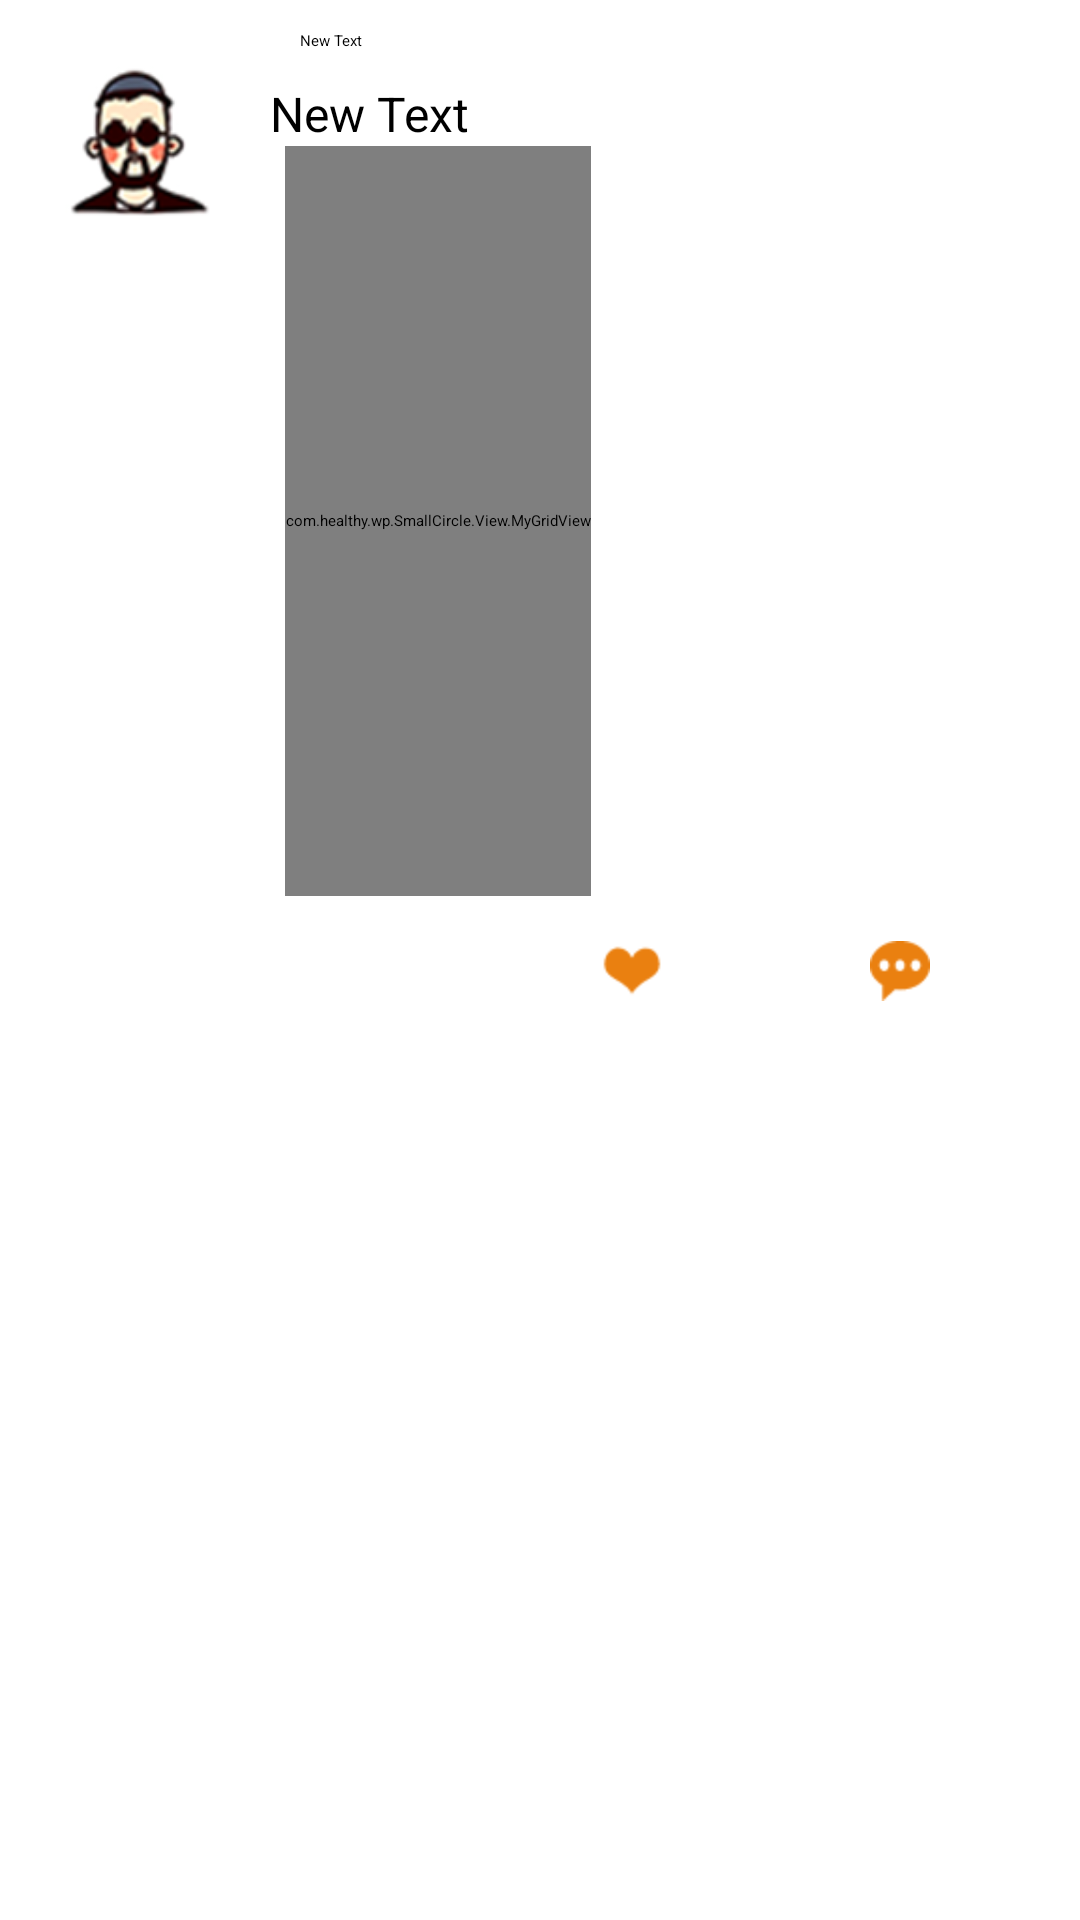

Named icons in this screenshot (1080px x 1920px) and their bounding boxes, BBox(x1, y1, x2, y2):
touxiang: BBox(71, 70, 208, 215)
zan: BBox(603, 946, 661, 994)
